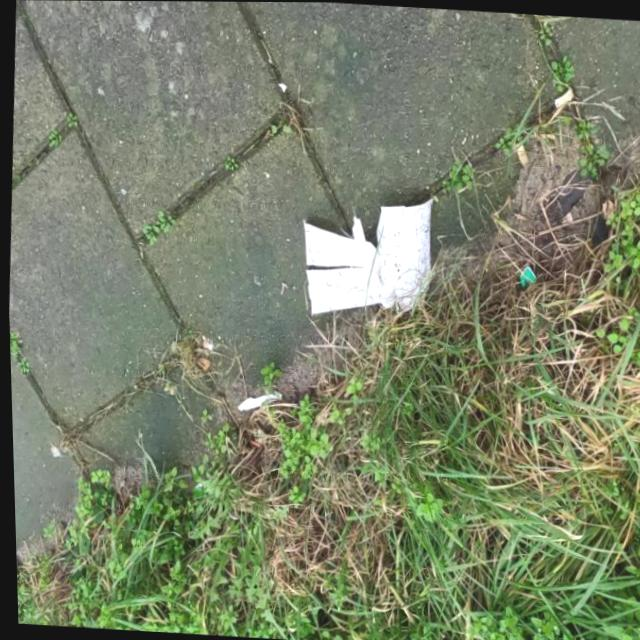Cup: (293, 185, 439, 324)
